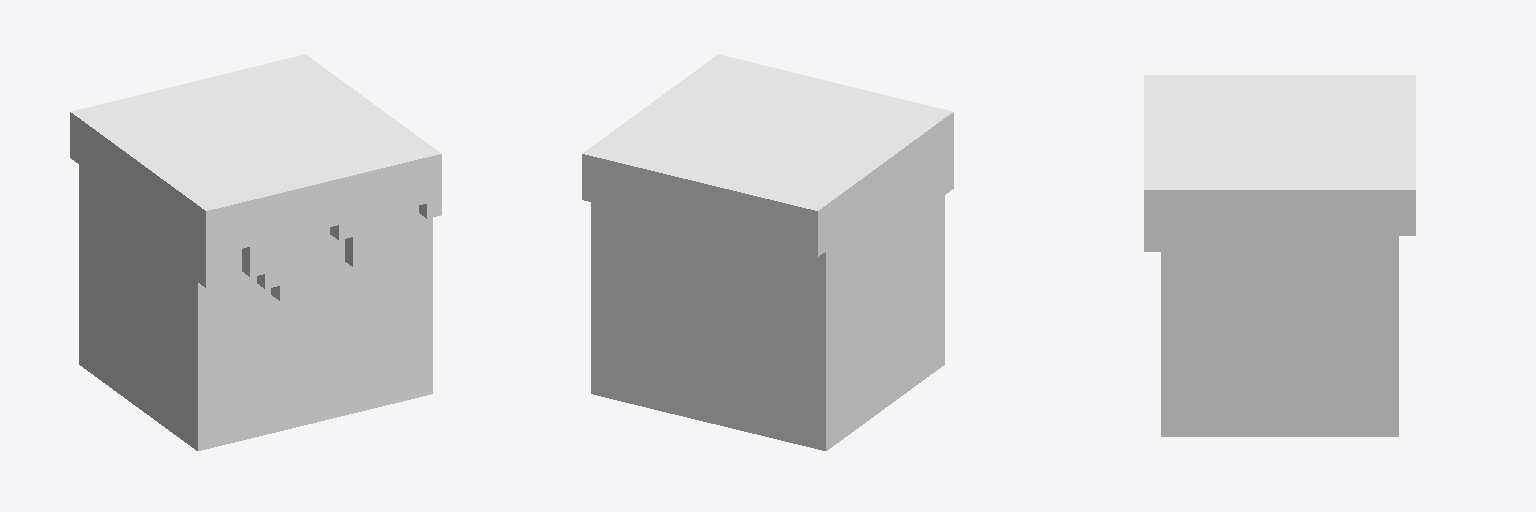
Rendered from grass_01.obj.
The picture shows the model from 3 angles: view 1: azimuth 30°, elevation 25°; view 2: azimuth 150°, elevation 25°; view 3: azimuth 270°, elevation 25°; orthographic projection.
Size of the model in its own units: 16 by 16 by 16.